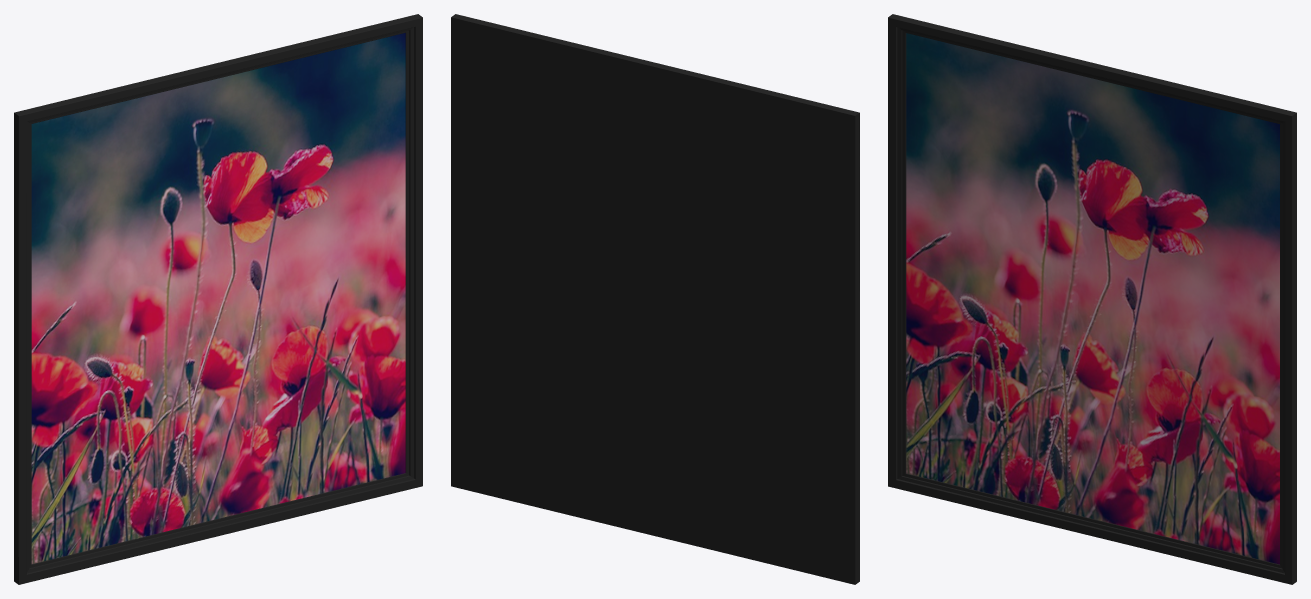
File: Picture 7.FBX
3 views of the same model, side by side, from view 1: azimuth 30°, elevation 25°; view 2: azimuth 150°, elevation 25°; view 3: azimuth 330°, elevation 25° (orthographic).
Visible parts, largest first — view 1: picture 7; view 2: picture 7; view 3: picture 7.
Part boxes in pixels (x1=…): picture 7: x1=14, y1=14, x2=422, y2=584; picture 7: x1=451, y1=14, x2=859, y2=584; picture 7: x1=888, y1=14, x2=1296, y2=584.
Size of the model in its own units: 72.15 by 79.99 by 1.46.
Materials: 1 (1 with a texture image).
